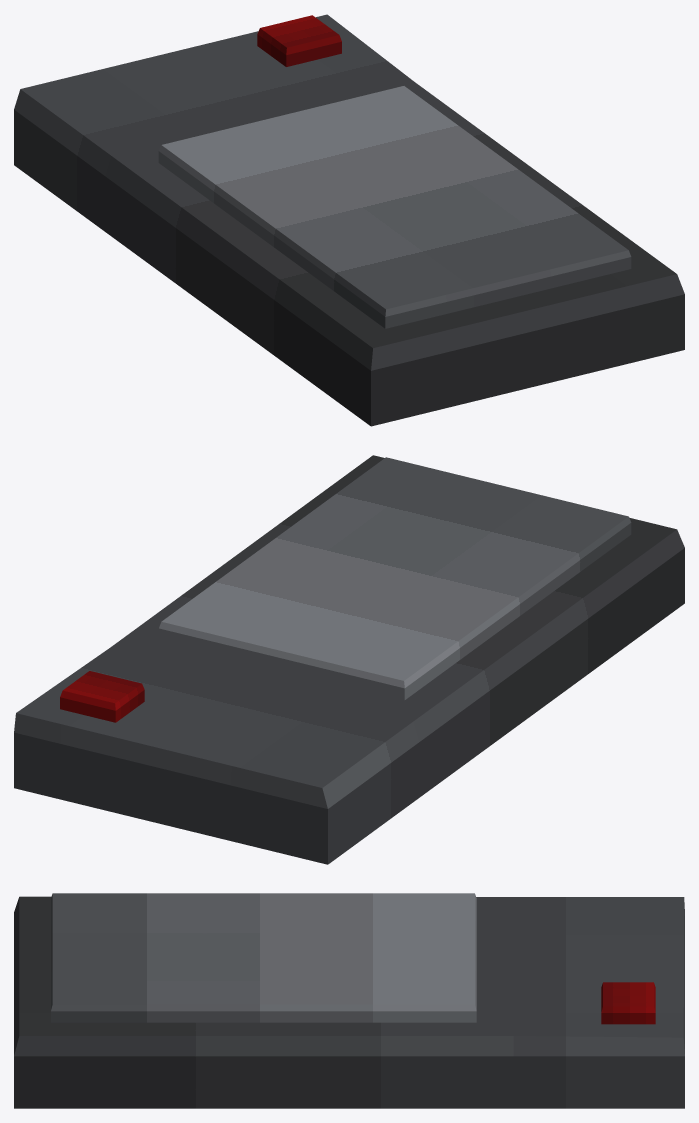
Rendered from Controller.fbx.
3 renders of one model, top to bottom at view 1: azimuth 30°, elevation 25°; view 2: azimuth 150°, elevation 25°; view 3: azimuth 270°, elevation 25°, orthographic. The views are drawn at different scales.
Visible parts, largest first — view 1: Controller_v1; view 2: Controller_v1; view 3: Controller_v1.
Part boxes in pixels (x1=…): Controller_v1: x1=14, y1=14, x2=684, y2=426; Controller_v1: x1=14, y1=455, x2=684, y2=864; Controller_v1: x1=14, y1=893, x2=684, y2=1108.
Bounding box in the file's own units: 25.54 × 7.26 × 50.32.
